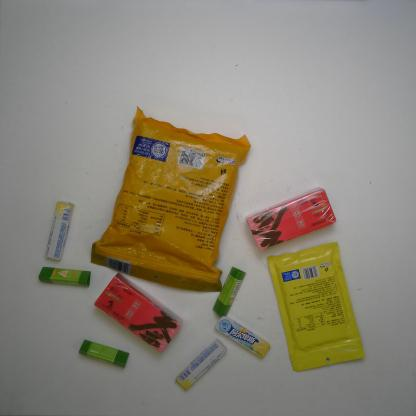Candy: (173, 337, 229, 391), (214, 314, 271, 359), (43, 199, 74, 263)
Dried Food: (87, 103, 252, 294)
Dried Fruit: (264, 240, 367, 374)
Instant Drink: (92, 270, 185, 354), (244, 186, 339, 252)
Stationery: (211, 265, 247, 318), (77, 338, 131, 371), (38, 266, 92, 288)
